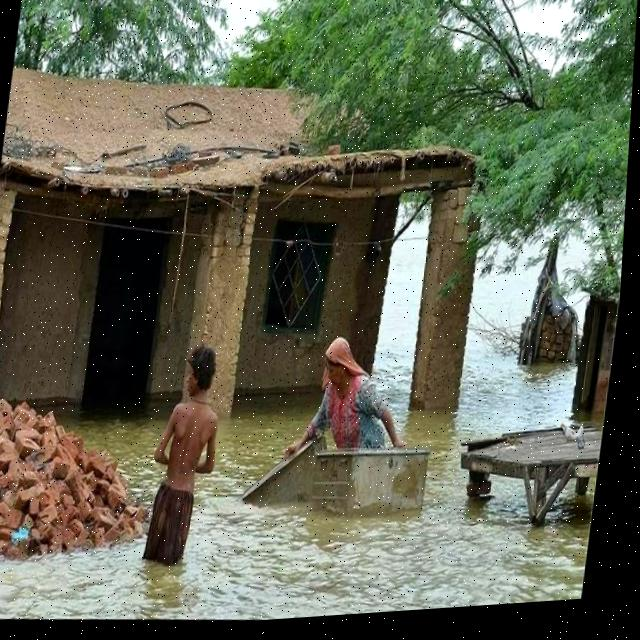civilian: (132, 338, 237, 587), (278, 326, 426, 476)
